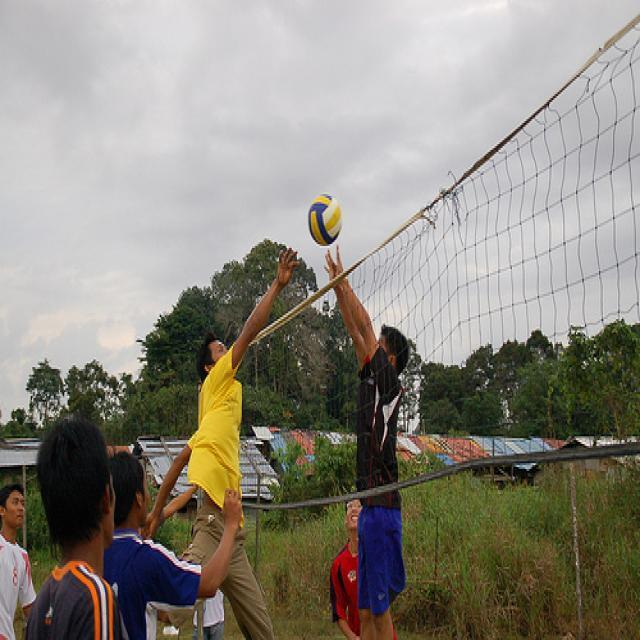volleyball: (308, 193, 342, 246)
